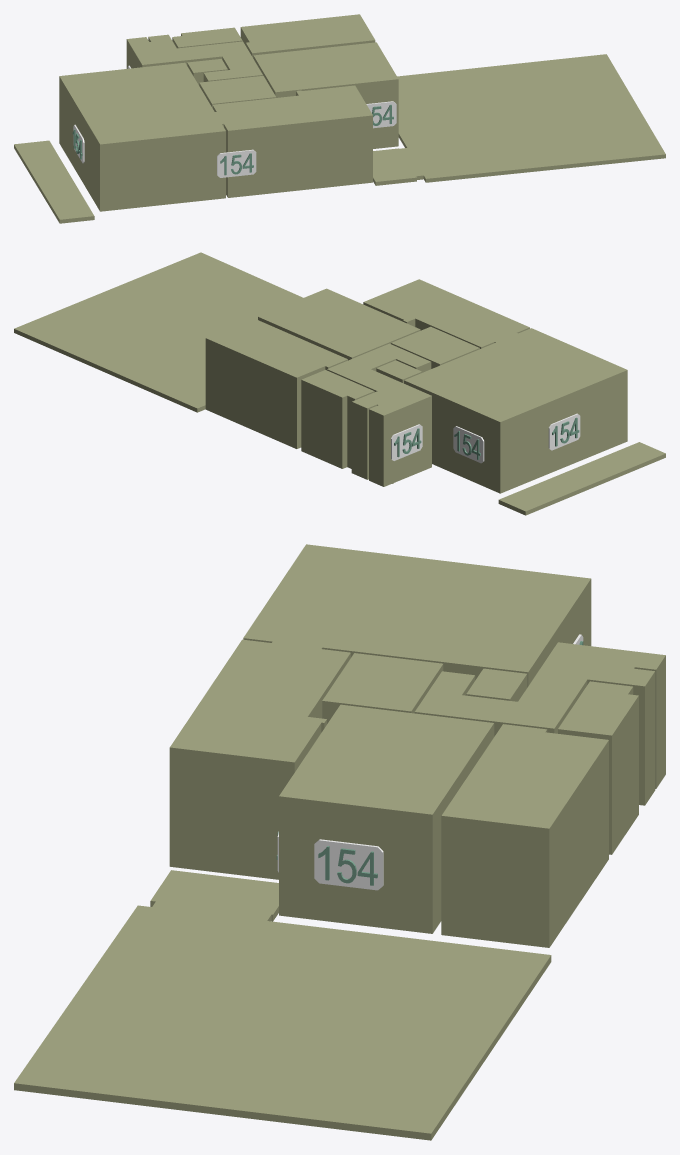
The picture shows the model from 3 angles, top to bottom: view 1: azimuth 30°, elevation 25°; view 2: azimuth 150°, elevation 25°; view 3: azimuth 270°, elevation 25°; orthographic projection. The views are drawn at different scales.
Visible parts, largest first — view 1: g_9, g_7, g_2, g_1, g_0, g_5, g_8, g_3, g_6, g_21, g_4, g_13; view 2: g_7, g_9, g_0, g_5, g_1, g_2, g_6, g_8, g_3, g_33, g_29, g_25 (+1 smaller); view 3: g_9, g_1, g_7, g_0, g_2, g_5, g_6, g_3, g_17, g_4.
Boxes of the visible parts, x1=… form: g_9: x1=373, y1=54, x2=665, y2=185; g_7: x1=59, y1=62, x2=225, y2=211; g_2: x1=212, y1=85, x2=372, y2=197; g_1: x1=253, y1=42, x2=398, y2=148; g_0: x1=240, y1=14, x2=375, y2=57; g_5: x1=126, y1=34, x2=262, y2=81; g_8: x1=14, y1=140, x2=94, y2=223; g_3: x1=199, y1=75, x2=276, y2=107; g_6: x1=172, y1=27, x2=242, y2=48; g_21: x1=217, y1=149, x2=256, y2=177; g_4: x1=187, y1=59, x2=227, y2=85; g_13: x1=366, y1=101, x2=396, y2=128; g_7: x1=404, y1=328, x2=627, y2=493; g_9: x1=14, y1=252, x2=303, y2=412; g_0: x1=205, y1=318, x2=347, y2=448; g_5: x1=327, y1=343, x2=431, y2=486; g_1: x1=258, y1=288, x2=420, y2=360; g_2: x1=363, y1=279, x2=529, y2=348; g_6: x1=301, y1=370, x2=374, y2=468; g_8: x1=498, y1=442, x2=665, y2=515; g_3: x1=391, y1=326, x2=479, y2=368; g_33: x1=548, y1=413, x2=580, y2=450; g_29: x1=391, y1=424, x2=422, y2=460; g_25: x1=453, y1=426, x2=484, y2=463; g_9: x1=14, y1=870, x2=551, y2=1140; g_1: x1=279, y1=704, x2=494, y2=933; g_7: x1=243, y1=544, x2=591, y2=687; g_0: x1=441, y1=724, x2=608, y2=947; g_2: x1=169, y1=639, x2=350, y2=879; g_5: x1=414, y1=642, x2=665, y2=805; g_6: x1=558, y1=681, x2=638, y2=854; g_3: x1=322, y1=653, x2=443, y2=723; g_17: x1=314, y1=839, x2=383, y2=890; g_4: x1=466, y1=668, x2=527, y2=701.
Bounding box in the file's own units: 23.25 × 2.74 × 12.75.
